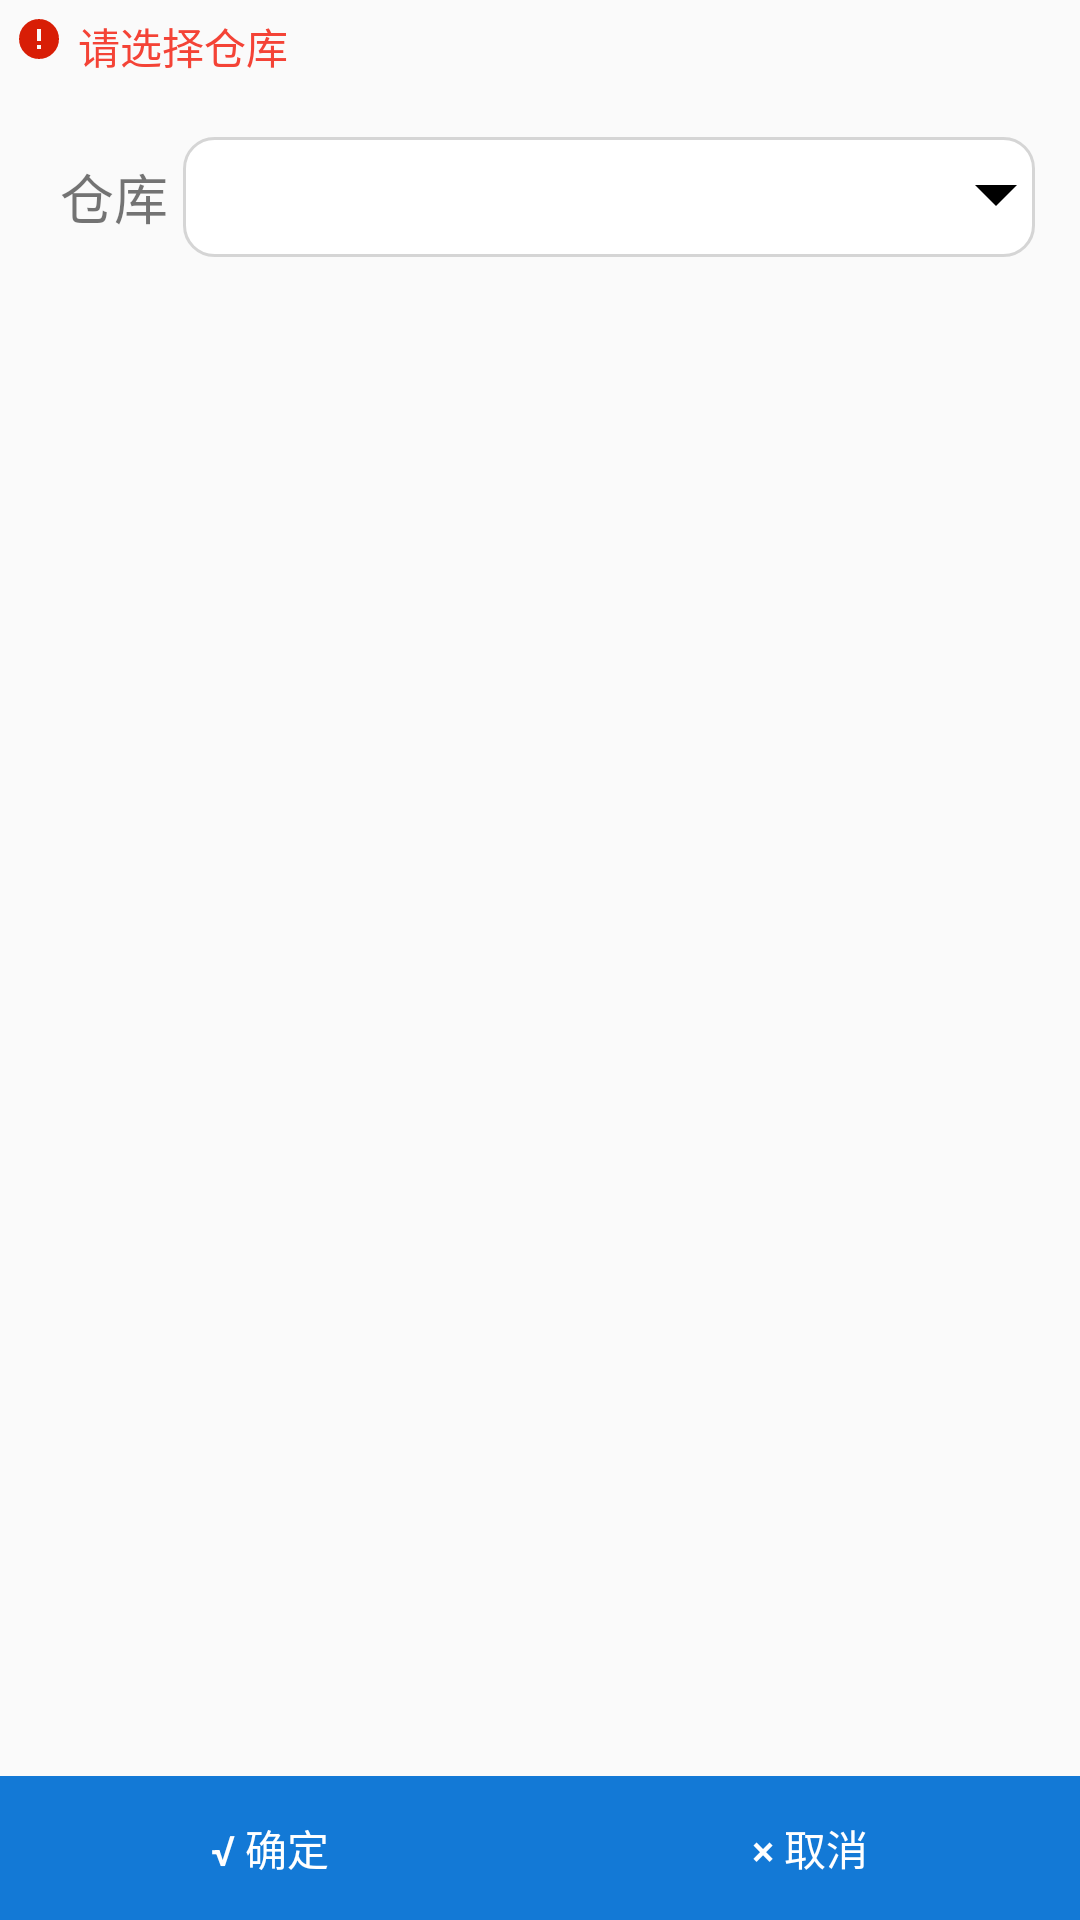

Icon click points for this 1080*1920 phone screenshot, format (x=x, y=y):
error: (x=39, y=39)
